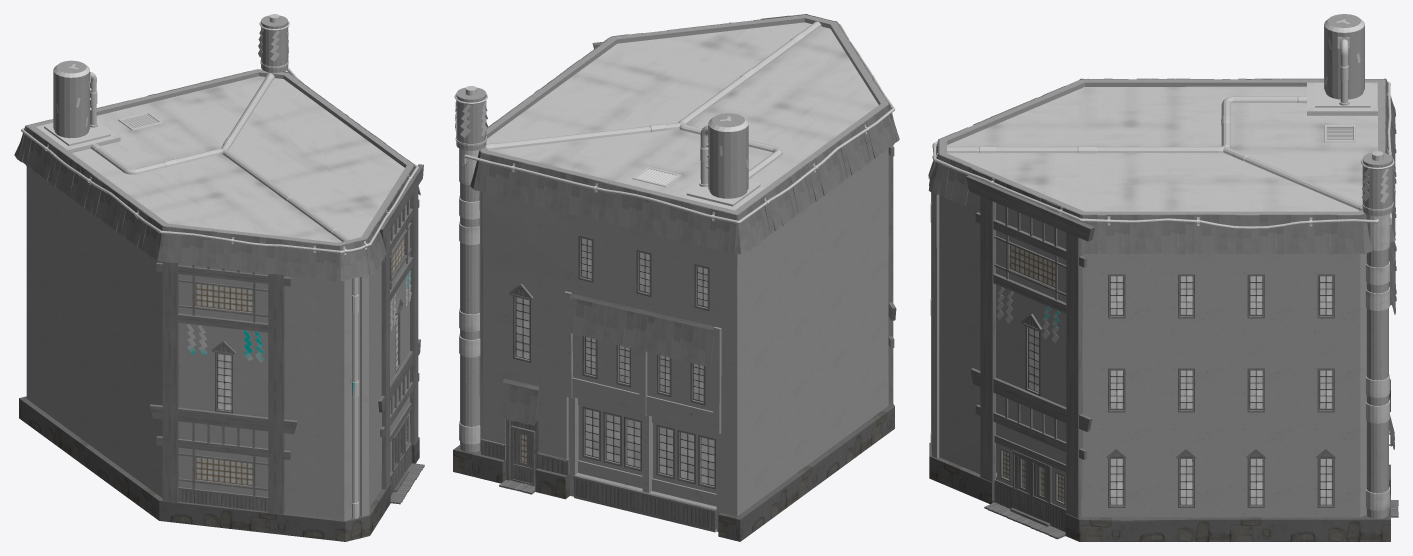
The model's file is SM_ENV_KNVLLG_AreaB_Building_B.mo.fbx.
The picture shows the model from 3 angles, left to right: view 1: azimuth 30°, elevation 25°; view 2: azimuth 150°, elevation 25°; view 3: azimuth 270°, elevation 25°; orthographic projection. The views are drawn at different scales.
Visible parts, largest first — view 1: SM_ENV_KNVLLG_AreaB_Building_B.mo; view 2: SM_ENV_KNVLLG_AreaB_Building_B.mo; view 3: SM_ENV_KNVLLG_AreaB_Building_B.mo.
Part boxes in pixels (bbox=[...]): SM_ENV_KNVLLG_AreaB_Building_B.mo: bbox=[14, 14, 424, 541]; SM_ENV_KNVLLG_AreaB_Building_B.mo: bbox=[453, 14, 899, 541]; SM_ENV_KNVLLG_AreaB_Building_B.mo: bbox=[928, 14, 1398, 541].
Bounding box in the file's own units: 18.64 × 23.27 × 24.94.
